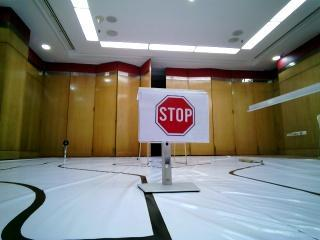stop: (148, 94, 205, 137)
